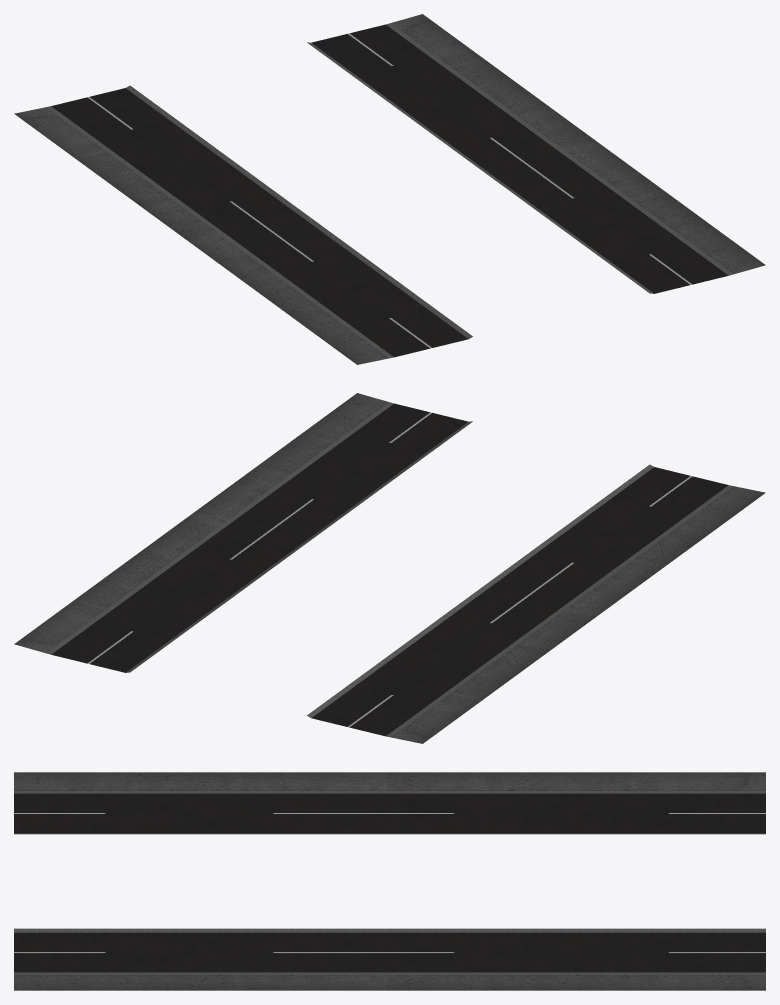
File: RJs_Road Pass 2+4+2 Basic Segment_B_lod.fbx
The picture shows the model from 3 angles, top to bottom: view 1: azimuth 30°, elevation 25°; view 2: azimuth 150°, elevation 25°; view 3: azimuth 270°, elevation 25°; orthographic projection. The views are drawn at different scales.
Visible parts, largest first — view 1: plane_lod; view 2: plane_lod; view 3: plane_lod.
Part boxes in pixels (x1,y1,x2,y2): plane_lod: (14,14,765,364); plane_lod: (14,393,765,743); plane_lod: (14,772,765,990).
Size of the model in its own units: 4400 by 15.1 by 6400.
